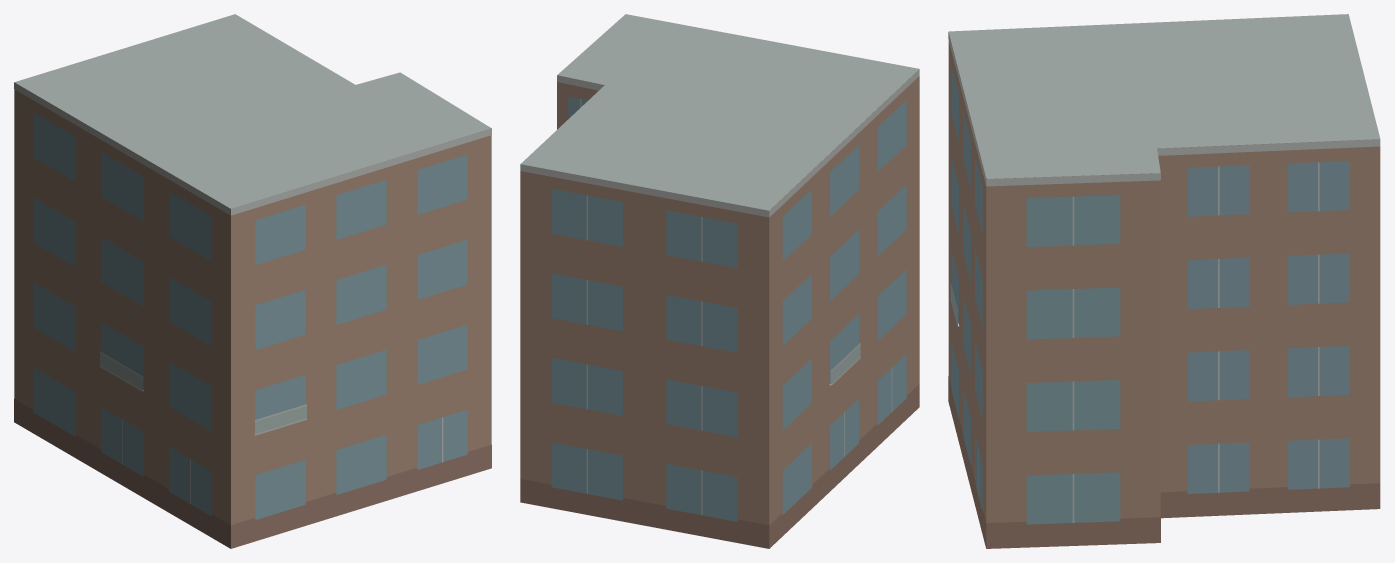
The model's file is survey-upis-32664411.glb.
3 renders of one model, left to right at view 1: azimuth 30°, elevation 25°; view 2: azimuth 150°, elevation 25°; view 3: azimuth 270°, elevation 25°, orthographic. The views are drawn at different scales.
Parts seen in each view (by area): view 1: survey-upis-32664411.tmp; view 2: survey-upis-32664411.tmp; view 3: survey-upis-32664411.tmp.
Part boxes in pixels (<box>): survey-upis-32664411.tmp: <box>14,14,491,548</box>; survey-upis-32664411.tmp: <box>520,14,919,548</box>; survey-upis-32664411.tmp: <box>948,14,1380,548</box>.
Size of the model in its own units: 11.69 by 12.2 by 12.93.
